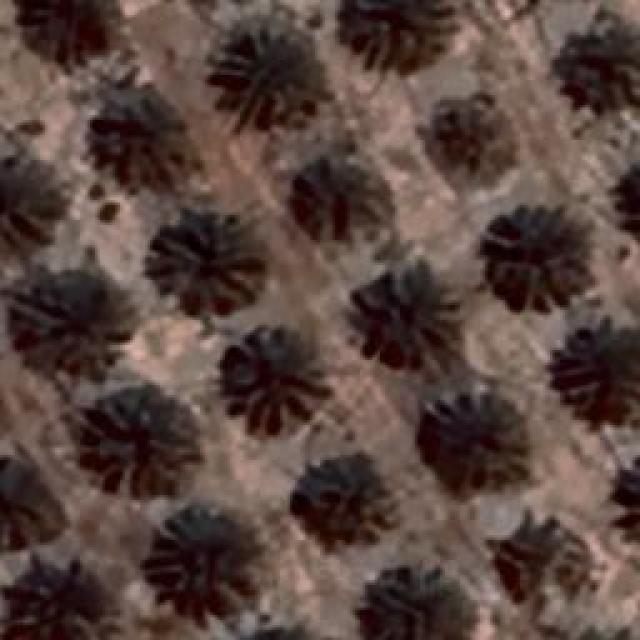PalmTree: (208, 12, 328, 130), (142, 510, 255, 625), (11, 268, 129, 378), (220, 322, 330, 436), (147, 210, 265, 315), (82, 390, 196, 498), (285, 445, 393, 545), (94, 95, 196, 195), (351, 275, 464, 363), (416, 78, 512, 172), (422, 394, 526, 478), (291, 155, 384, 245), (485, 215, 583, 298), (555, 9, 640, 102), (340, 0, 450, 70), (358, 572, 470, 640), (16, 565, 116, 640), (562, 322, 640, 418), (496, 524, 584, 608), (17, 1, 132, 59), (0, 144, 58, 248), (0, 450, 45, 542), (602, 166, 640, 239), (602, 460, 640, 532)
